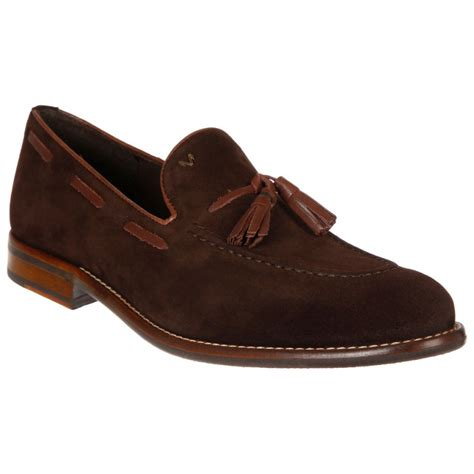gamuza: (9, 104, 456, 350)
